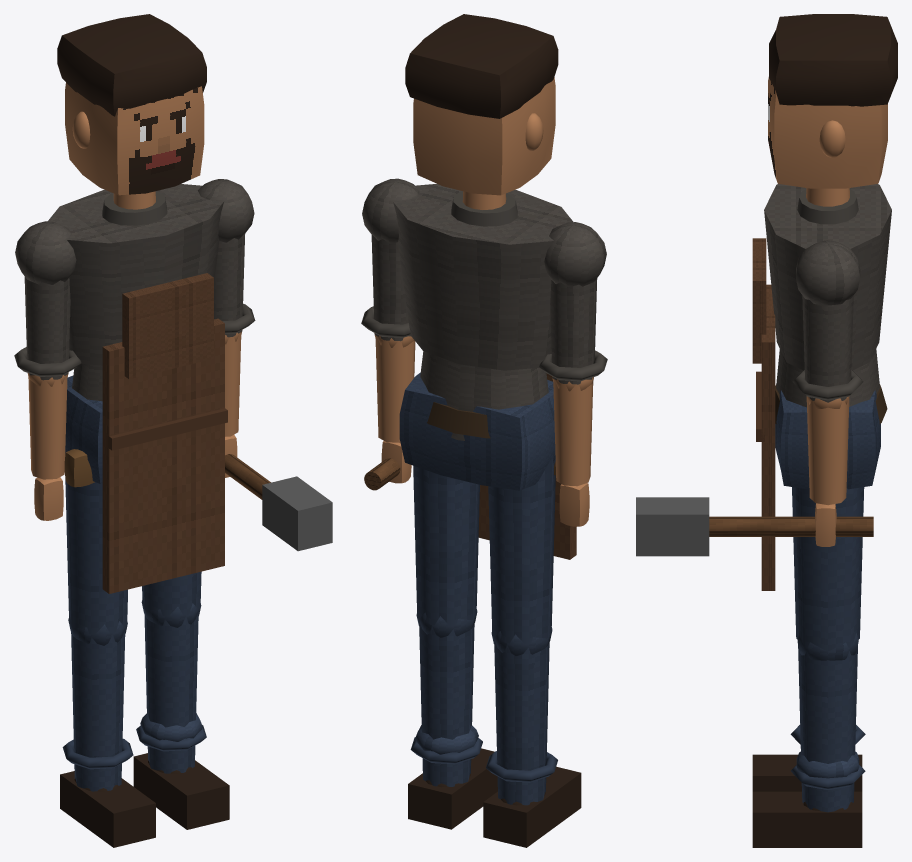
The model's file is herrero.glb.
3 renders of one model, left to right at view 1: azimuth 30°, elevation 25°; view 2: azimuth 150°, elevation 25°; view 3: azimuth 270°, elevation 25°, orthographic. The views are drawn at different scales.
Parts seen in each view (by area): view 1: herrero, object 30, object 33, object 3, object 9, object 1, object 6, object 13, object 27, object 16, object 18, object 15 (+13 smaller); view 2: herrero, object 33, object 30, object 1, object 7, object 3, object 9, object 6, object 16, object 13, object 18, object 15 (+15 smaller); view 3: herrero, object 33, object 30, object 7, object 9, object 13, object 27, object 22, object 24, object 21, object 26, object 6 (+7 smaller).
Boxes of the visible parts, box(x1,y1,x2,y2) form: herrero: box(48, 184, 227, 593); object 30: box(65, 82, 204, 195); object 33: box(57, 14, 206, 116); object 3: box(71, 629, 125, 791); object 9: box(144, 612, 198, 773); object 1: box(65, 479, 127, 634); object 6: box(60, 771, 155, 847); object 13: box(133, 753, 229, 829); object 27: box(262, 476, 332, 551); object 16: box(24, 276, 70, 380); object 18: box(28, 374, 67, 479); object 15: box(15, 221, 76, 284); herrero: box(393, 184, 576, 559); object 33: box(405, 14, 558, 118); object 30: box(413, 77, 555, 195); object 1: box(488, 457, 555, 644); object 7: box(413, 465, 479, 625); object 3: box(494, 639, 549, 805); object 9: box(419, 621, 474, 786); object 6: box(483, 766, 581, 847); object 16: box(550, 278, 597, 384); object 13: box(408, 748, 497, 829); object 18: box(553, 379, 593, 486); object 15: box(544, 222, 606, 287); herrero: box(752, 184, 891, 590); object 33: box(769, 14, 897, 106); object 30: box(768, 77, 887, 188); object 7: box(792, 487, 864, 651); object 9: box(798, 645, 857, 812); object 13: box(752, 791, 862, 847); object 27: box(636, 497, 709, 556); object 22: box(802, 295, 853, 402); object 24: box(806, 396, 849, 505); object 21: box(796, 240, 860, 305); object 26: box(709, 516, 873, 536); object 6: box(752, 754, 862, 791).
Bounding box in the file's own units: 0.6386 × 1.99 × 0.6034.
16 materials, 5 textured.
